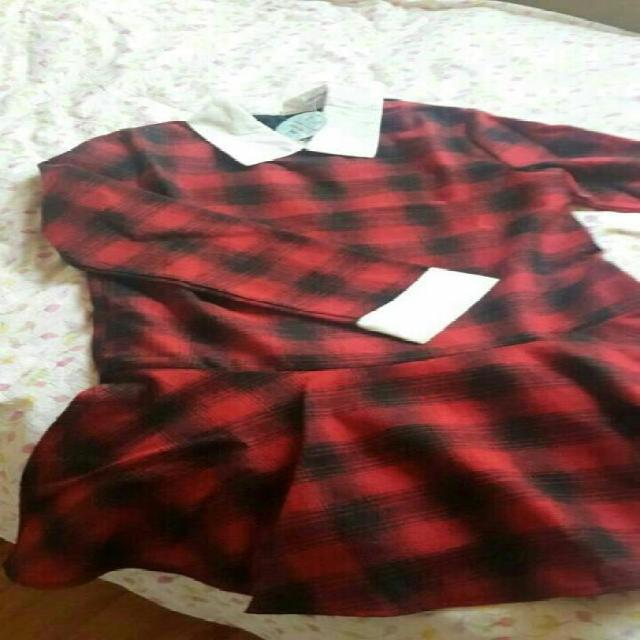long-sleeve-dress: (30, 114, 640, 616)
